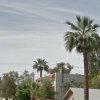Palm tree: (59, 9, 100, 92)
